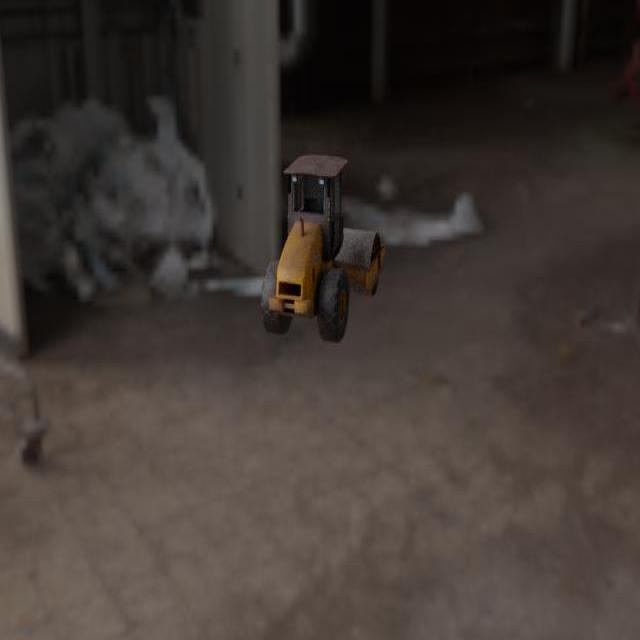Roller: (260, 153, 385, 343)
